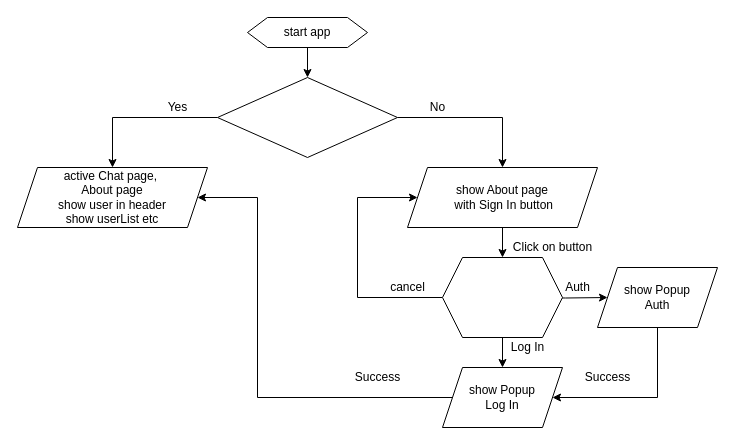
This 735x445 diagram has some shape labels left out. The shapes that lost their labels are listed below. From the top down, each one's box as (x1, y1, x2, y2) in pixels, then its label:
(216, 76, 398, 158): session exists
(442, 256, 562, 338): show Popup Sign In
